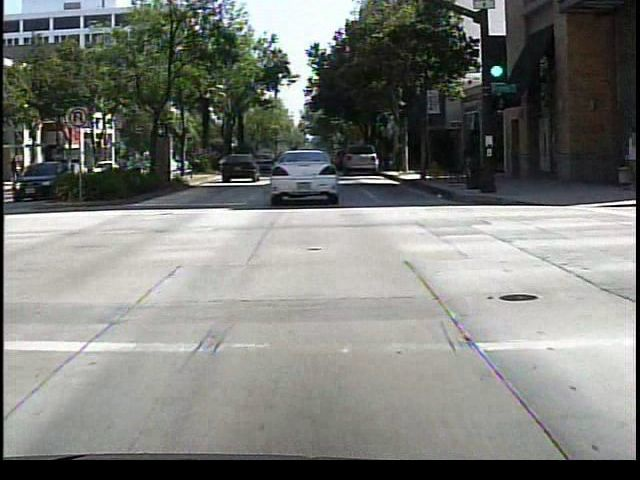person: (615, 122, 637, 198), (9, 153, 26, 187)
